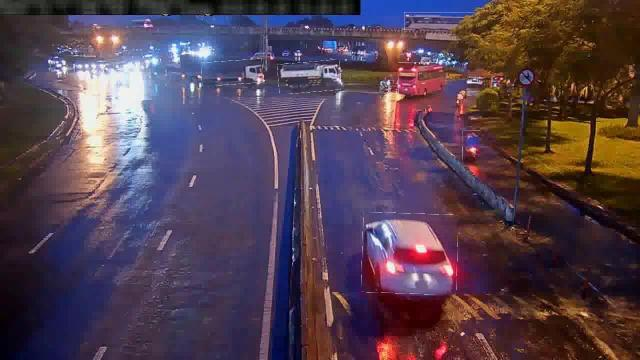Bike: (463, 131, 481, 161)
Bus: (398, 62, 449, 96), (404, 12, 476, 34)
Car: (362, 214, 458, 295)
Truck: (278, 61, 340, 93), (201, 60, 263, 84)
